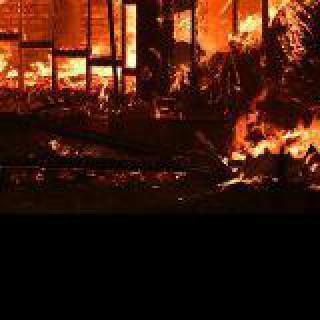fire: (0, 0, 318, 212)
